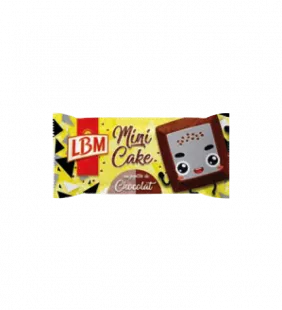LBM: (43, 107, 237, 205)
